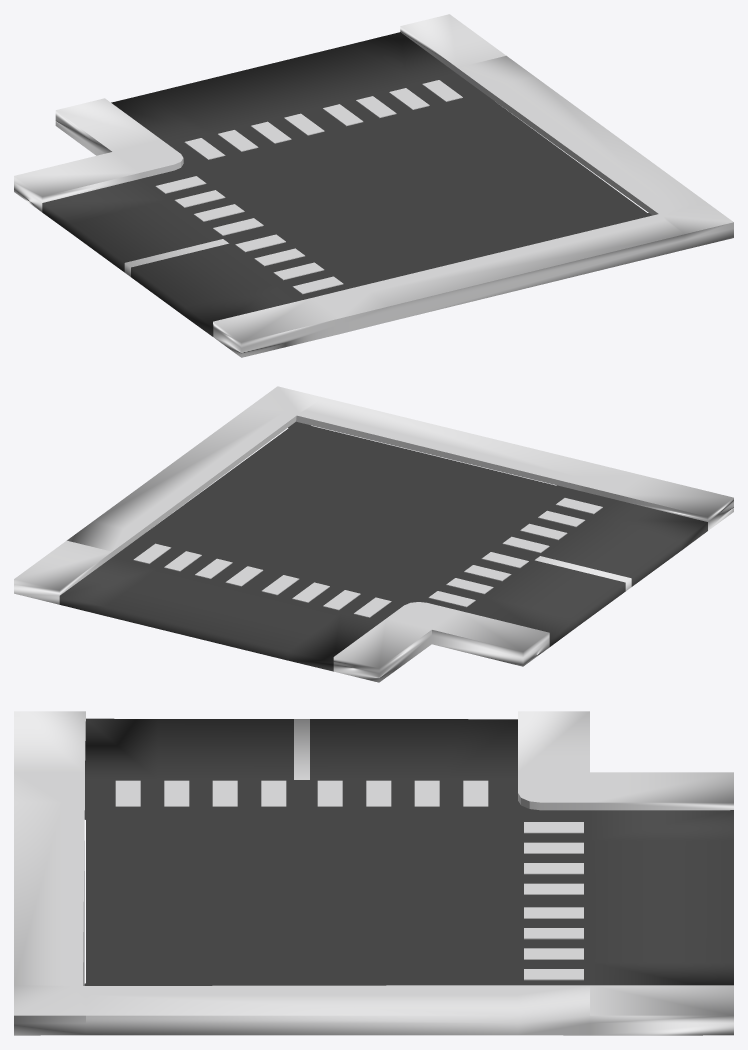
The model's file is two-lane-L-junction-right-edited.fbx.
3 renders of one model, top to bottom at view 1: azimuth 30°, elevation 25°; view 2: azimuth 150°, elevation 25°; view 3: azimuth 270°, elevation 25°, orthographic. The views are drawn at different scales.
Parts seen in each view (by area): view 1: two-lane-L-junction-right; view 2: two-lane-L-junction-right; view 3: two-lane-L-junction-right.
Part boxes in pixels (x1,y1,x2,y2): two-lane-L-junction-right: [14, 14, 733, 357]; two-lane-L-junction-right: [14, 386, 733, 682]; two-lane-L-junction-right: [14, 711, 733, 1035].
Size of the model in its own units: 140179 by 4355 by 140179.
